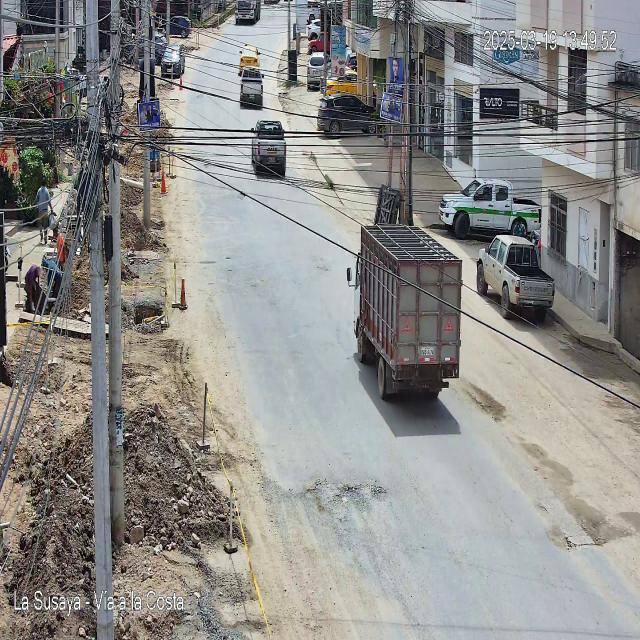TRUCK: (353, 224, 462, 401)
